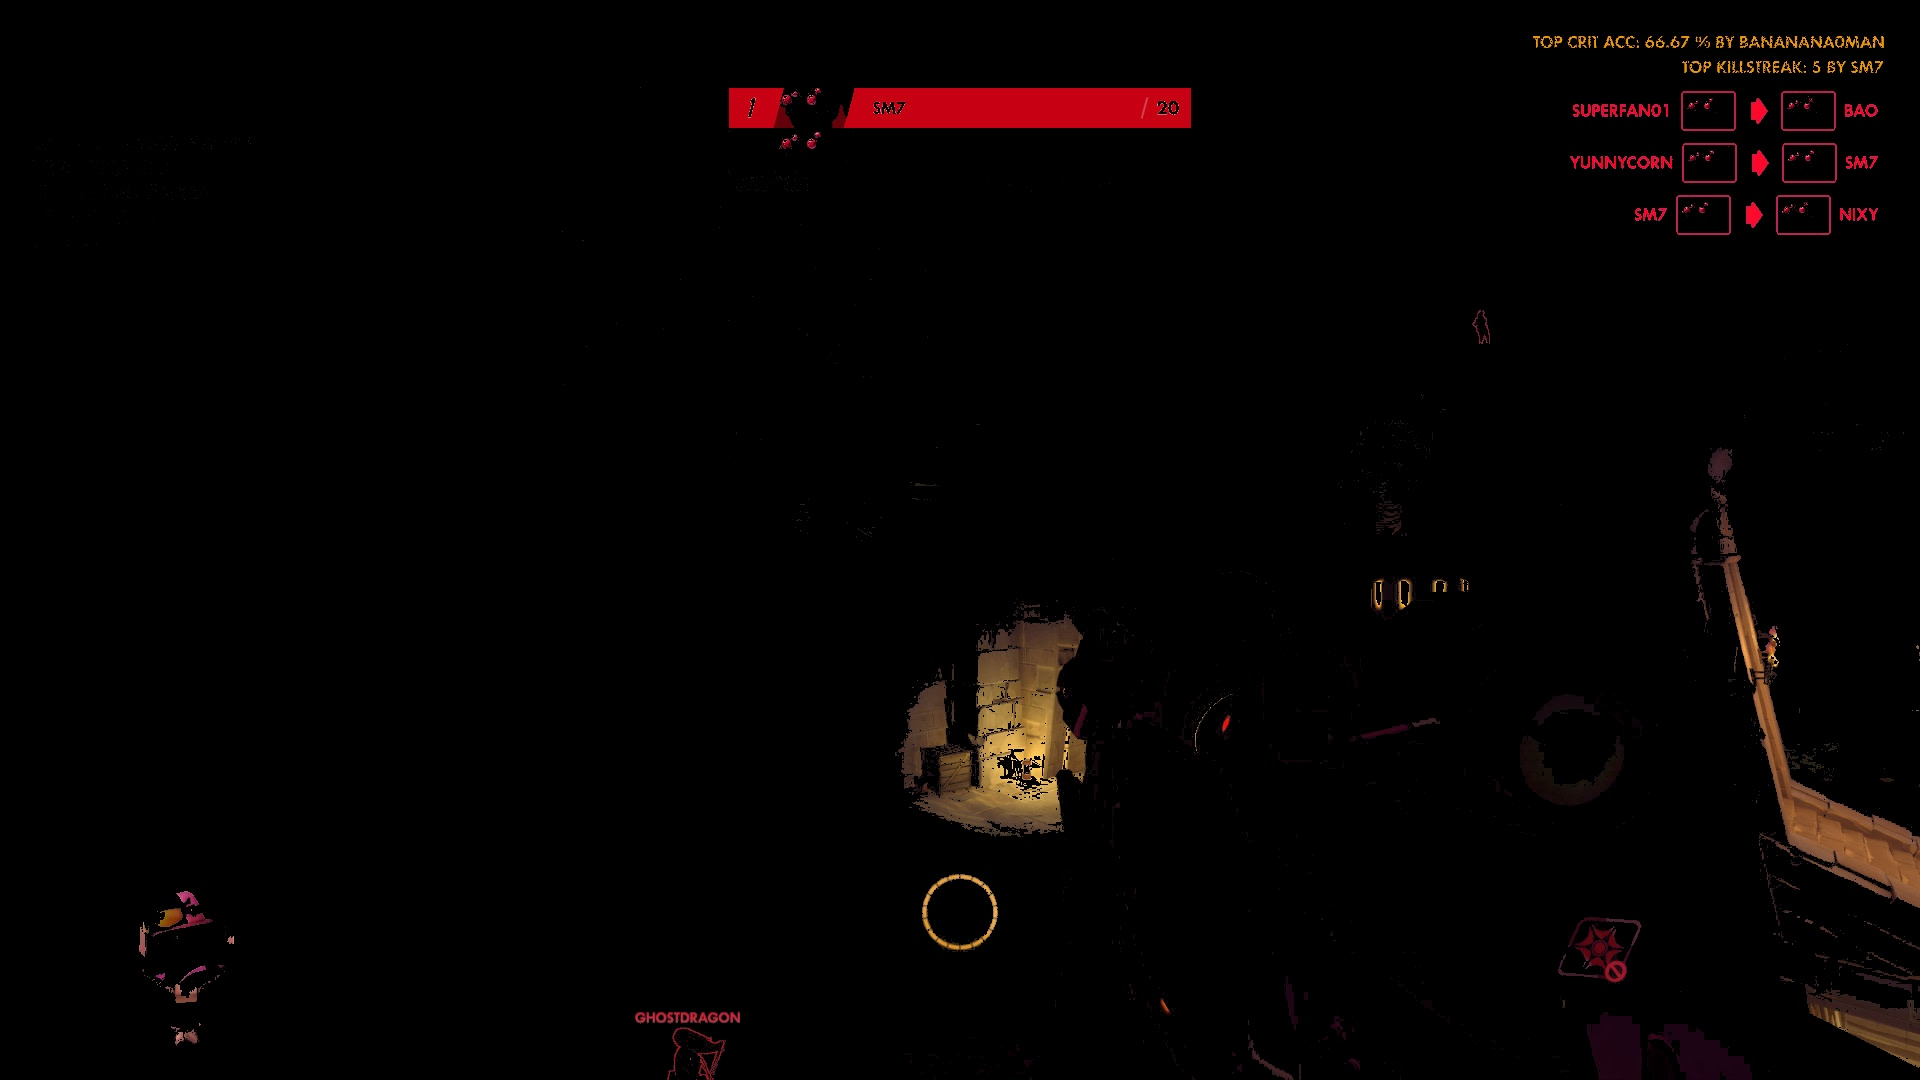widowmaker: (658, 1027, 720, 1080)
